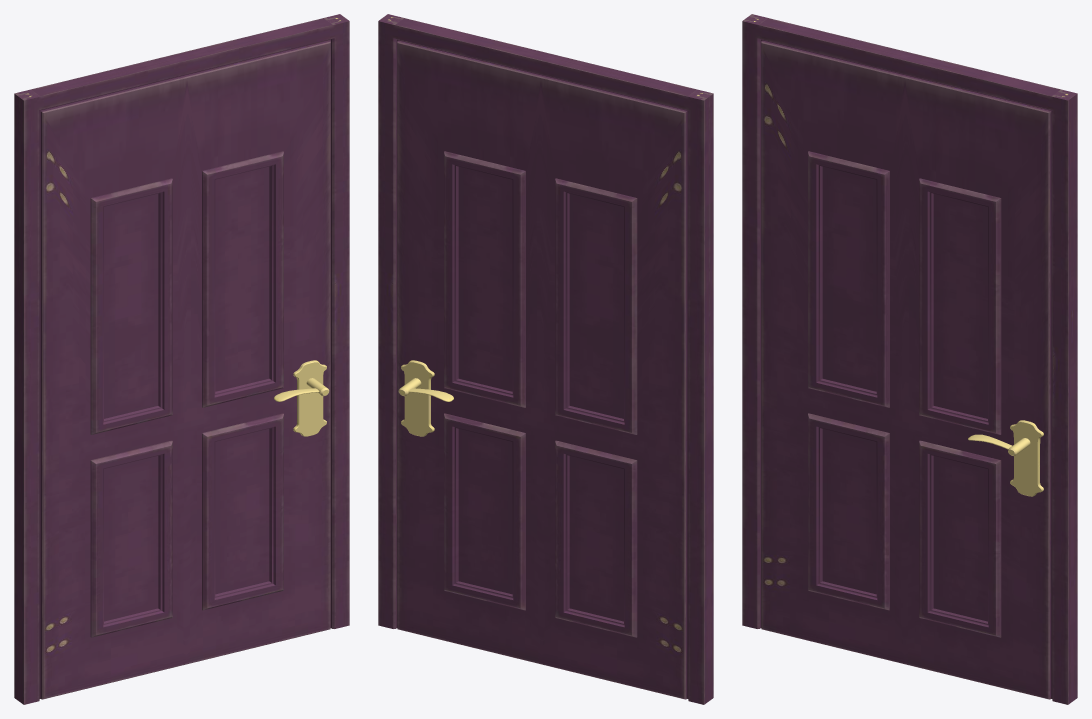
File: Door-2.fbx
The picture shows the model from 3 angles, left to right: view 1: azimuth 30°, elevation 25°; view 2: azimuth 150°, elevation 25°; view 3: azimuth 330°, elevation 25°; orthographic projection.
Visible parts, largest first — view 1: Door; view 2: Door; view 3: Door.
Boxes of the visible parts, box(x1,y1,x2,y2) form: Door: box(14, 14, 349, 704); Door: box(378, 14, 713, 704); Door: box(742, 14, 1077, 704).
Bounding box in the file's own units: 203 × 360 × 45.61.
